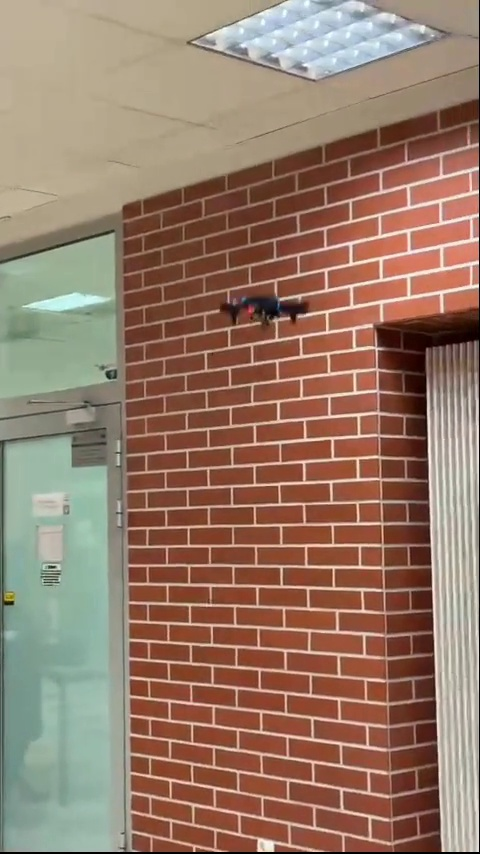drone: (221, 292, 308, 329)
